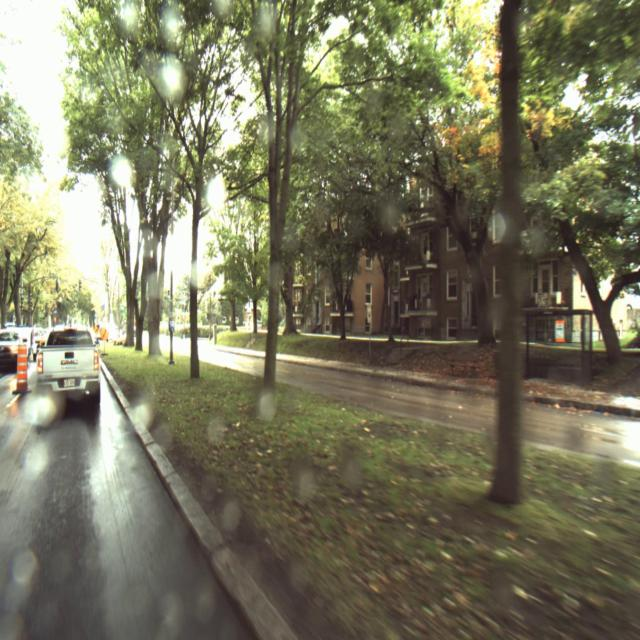car: (36, 328, 101, 413), (0, 327, 39, 365)
